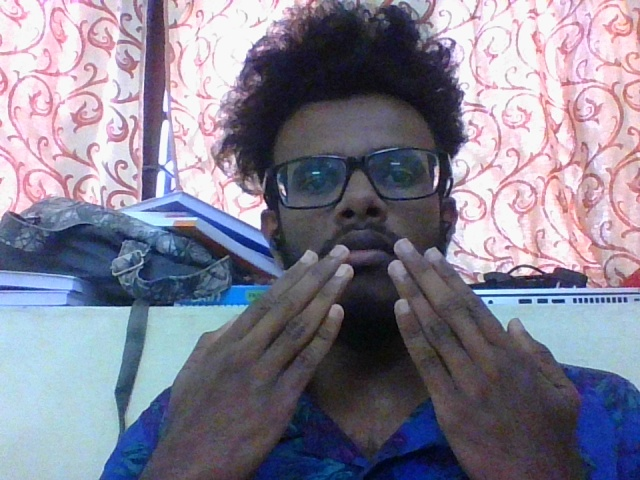thank: (163, 232, 589, 469)
